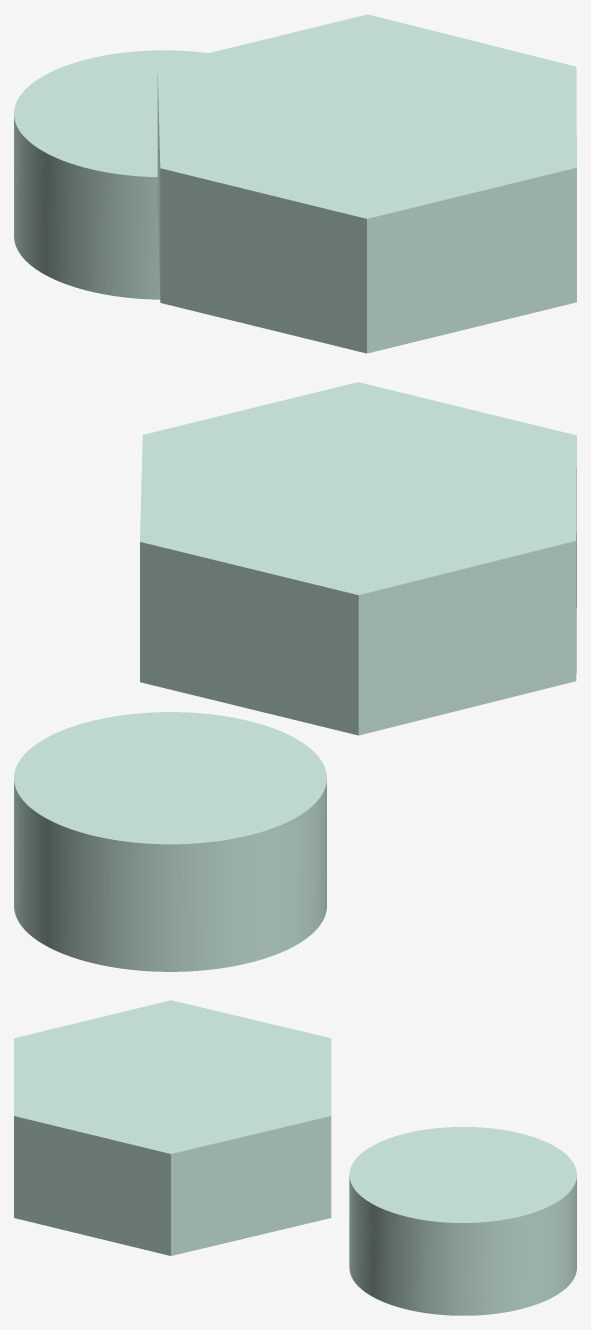
3 renders of one model, top to bottom at view 1: azimuth 30°, elevation 25°; view 2: azimuth 150°, elevation 25°; view 3: azimuth 270°, elevation 25°, orthographic. The views are drawn at different scales.
Visible parts, largest first — view 1: Renderer Node; view 2: Renderer Node; view 3: Renderer Node.
Part boxes in pixels (left/top/right/bottom): Renderer Node: left=14, top=14, right=576, bottom=353; Renderer Node: left=14, top=382, right=576, bottom=971; Renderer Node: left=14, top=1000, right=576, bottom=1315.
Size of the model in its own units: 0.2779 by 0.1641 by 0.4297.
